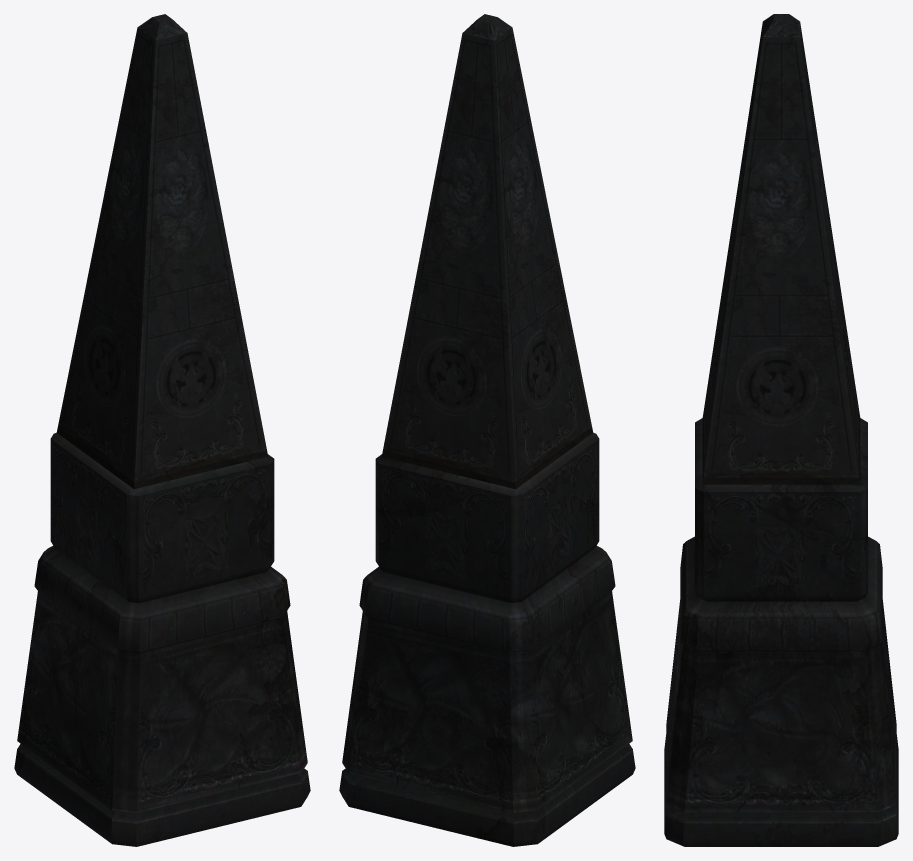
File: Dream_Pillar.DAE
3 renders of one model, left to right at view 1: azimuth 30°, elevation 25°; view 2: azimuth 150°, elevation 25°; view 3: azimuth 270°, elevation 25°, orthographic.
Visible parts, largest first — view 1: Box001; view 2: Box001; view 3: Box001.
Boxes of the visible parts, box(x1,y1,x2,y2) form: Box001: box(14, 14, 310, 846); Box001: box(339, 14, 635, 846); Box001: box(664, 14, 898, 846).
Bounding box in the file's own units: 0.0809 × 0.2974 × 0.0809.
